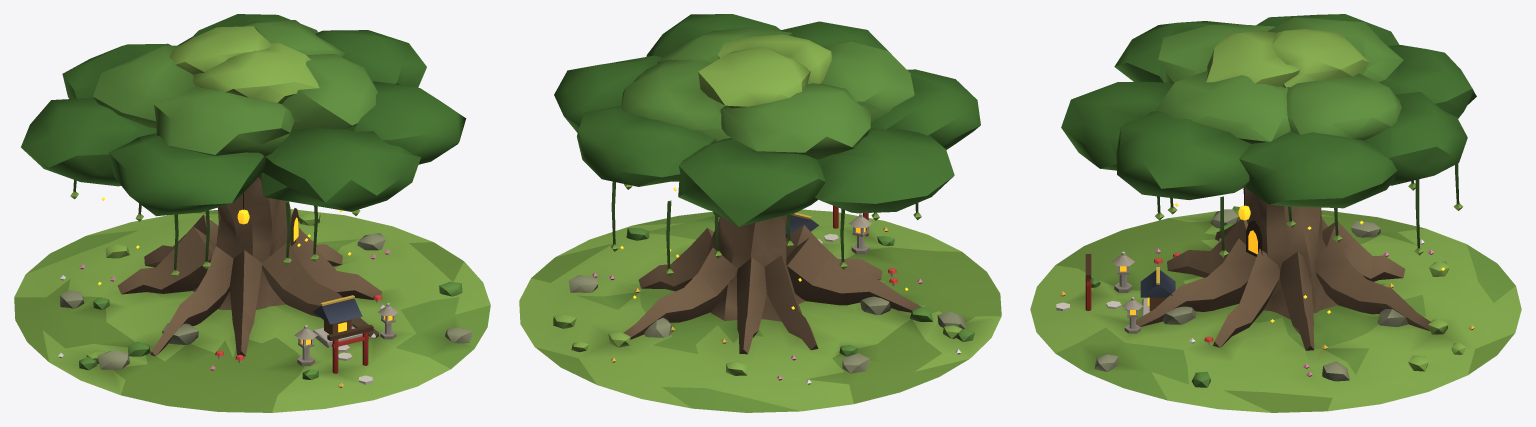
File: nw_elder_tree.glb
3 views of the same model, side by side, from view 1: azimuth 30°, elevation 25°; view 2: azimuth 150°, elevation 25°; view 3: azimuth 270°, elevation 25° (orthographic).
Visible parts, largest first — view 1: nw_elder_tree; view 2: nw_elder_tree; view 3: nw_elder_tree.
Part boxes in pixels (left/top/right/bottom): nw_elder_tree: left=14, top=14, right=490, bottom=412; nw_elder_tree: left=519, top=14, right=1001, bottom=412; nw_elder_tree: left=1030, top=14, right=1521, bottom=412.
Size of the model in its own units: 1.53 by 0.9305 by 1.55.
